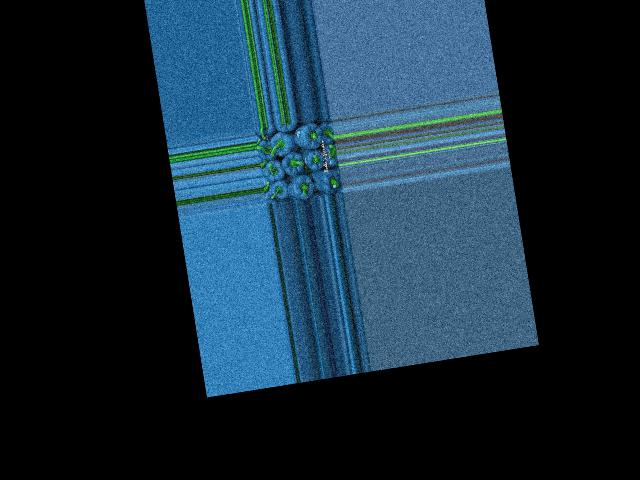bell_pepper: (316, 118, 336, 146)
